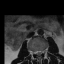CCS_normal: (38, 48, 40, 58)
LFS_normal: (42, 48, 45, 56)
LLS_normal: (40, 48, 42, 56)
RFS_normal: (33, 48, 35, 56)
RLS_normal: (35, 48, 38, 56)
